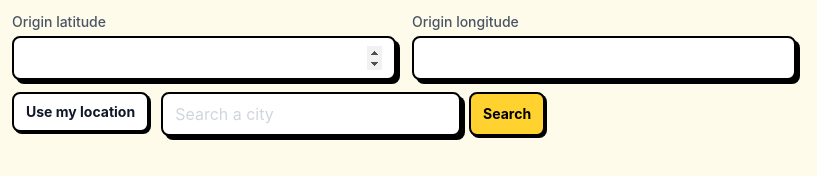
Test case: OriginLocationFields › says when nothing matched rather than showing an empty list
Type "Nowherecity" into the field labelled "Search a city".
click(311, 114); type("Nowherecity")  # box [161,92,461,136]
Then press Enter
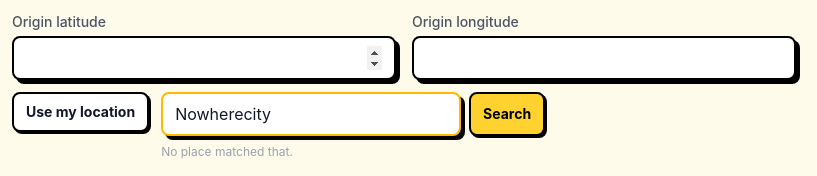
Expected: the text "No place matched that." is shown, [161,144,293,159]
